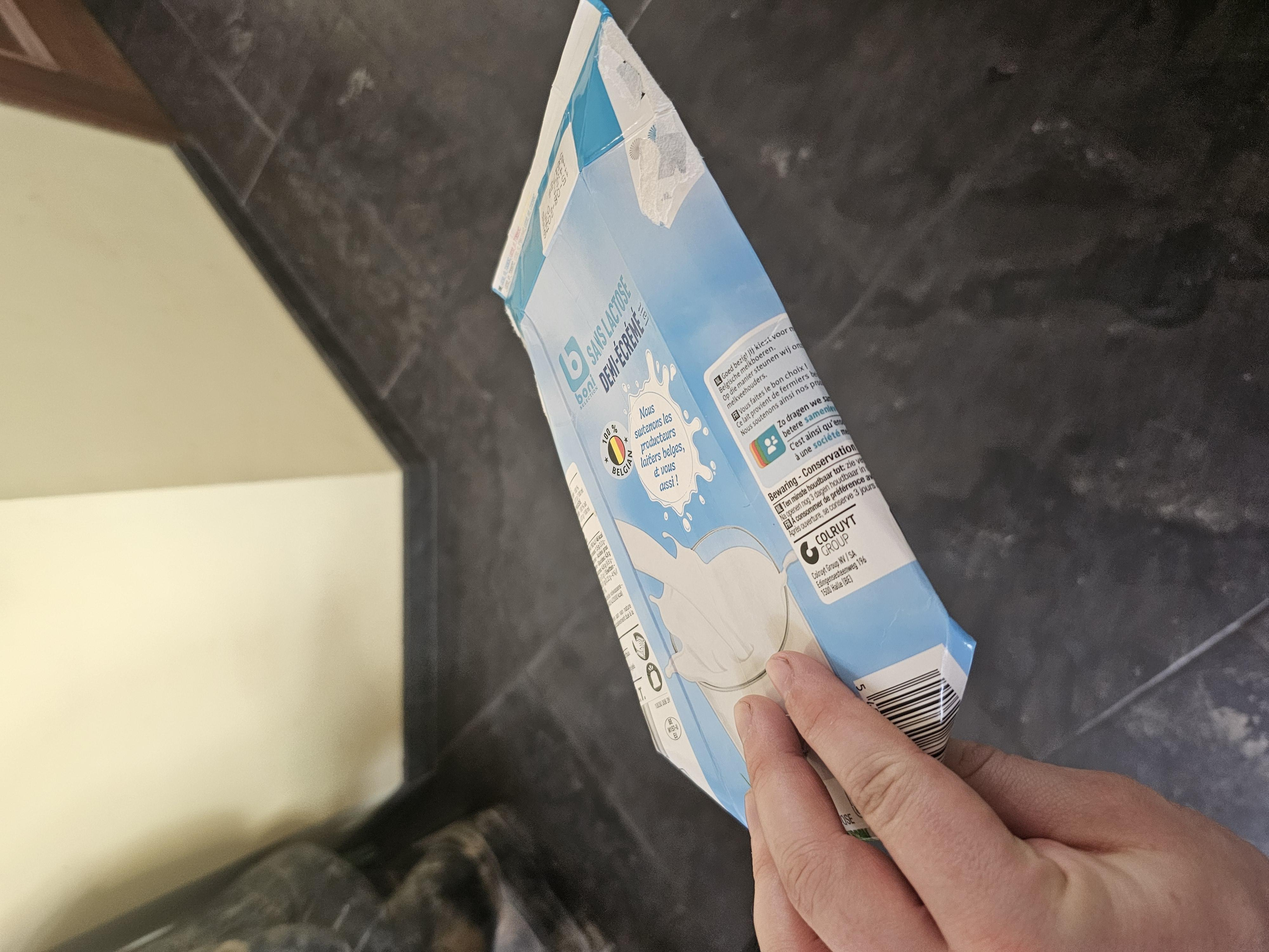Plastic: (118, 365, 1269, 736)
